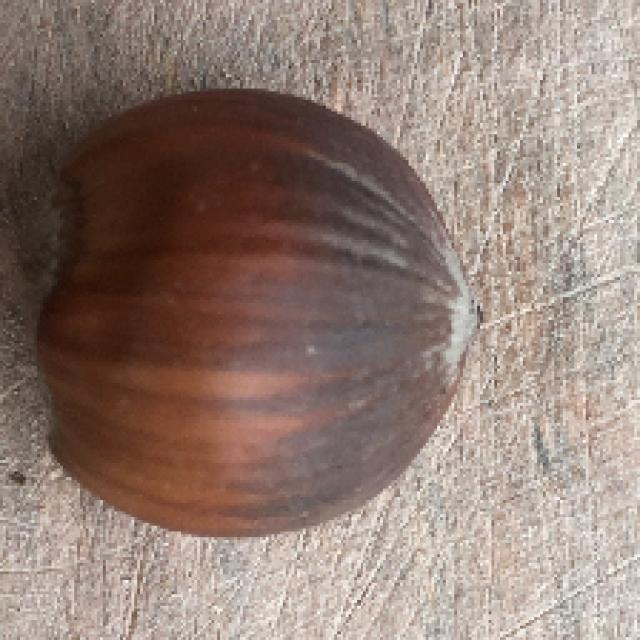damagedHazelnut: (17, 93, 484, 543)
